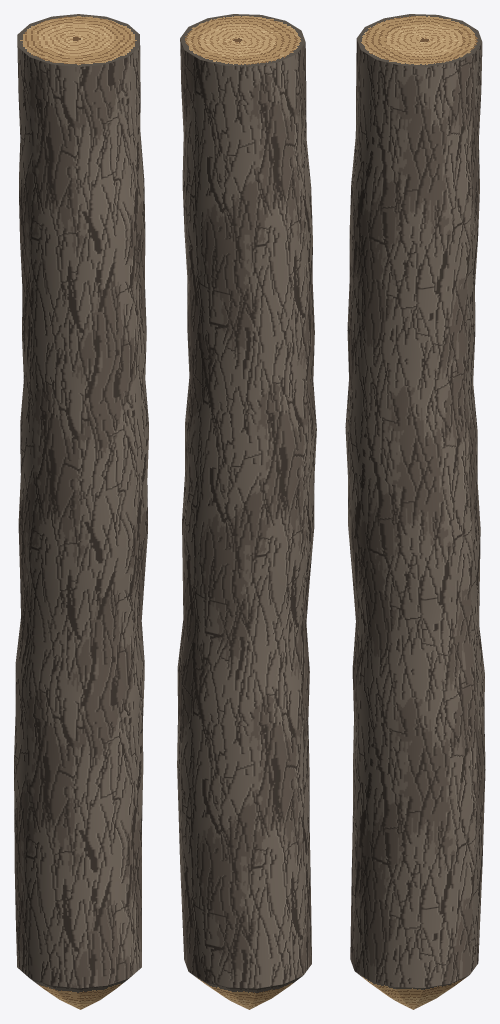
Rendered from environment_elm_log_v72.fbx.
3 views of the same model, side by side, from view 1: azimuth 90°, elevation 25°; view 2: azimuth 150°, elevation 25°; view 3: azimuth 330°, elevation 25° (orthographic).
Visible parts, largest first — view 1: environment_elm_log_v72; view 2: environment_elm_log_v72; view 3: environment_elm_log_v72.
Boxes of the visible parts, x1,y1,x2,y2 form: environment_elm_log_v72: [14, 14, 148, 1009]; environment_elm_log_v72: [177, 14, 316, 1009]; environment_elm_log_v72: [345, 14, 485, 1009].
Size of the model in its own units: 129 by 1000 by 127.
2 materials, 2 textured.
